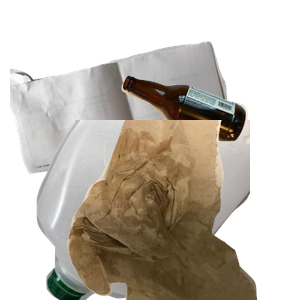glass: (119, 73, 300, 207)
paper: (10, 39, 236, 205)
plastic: (34, 120, 274, 300)
trash: (65, 120, 300, 300)
